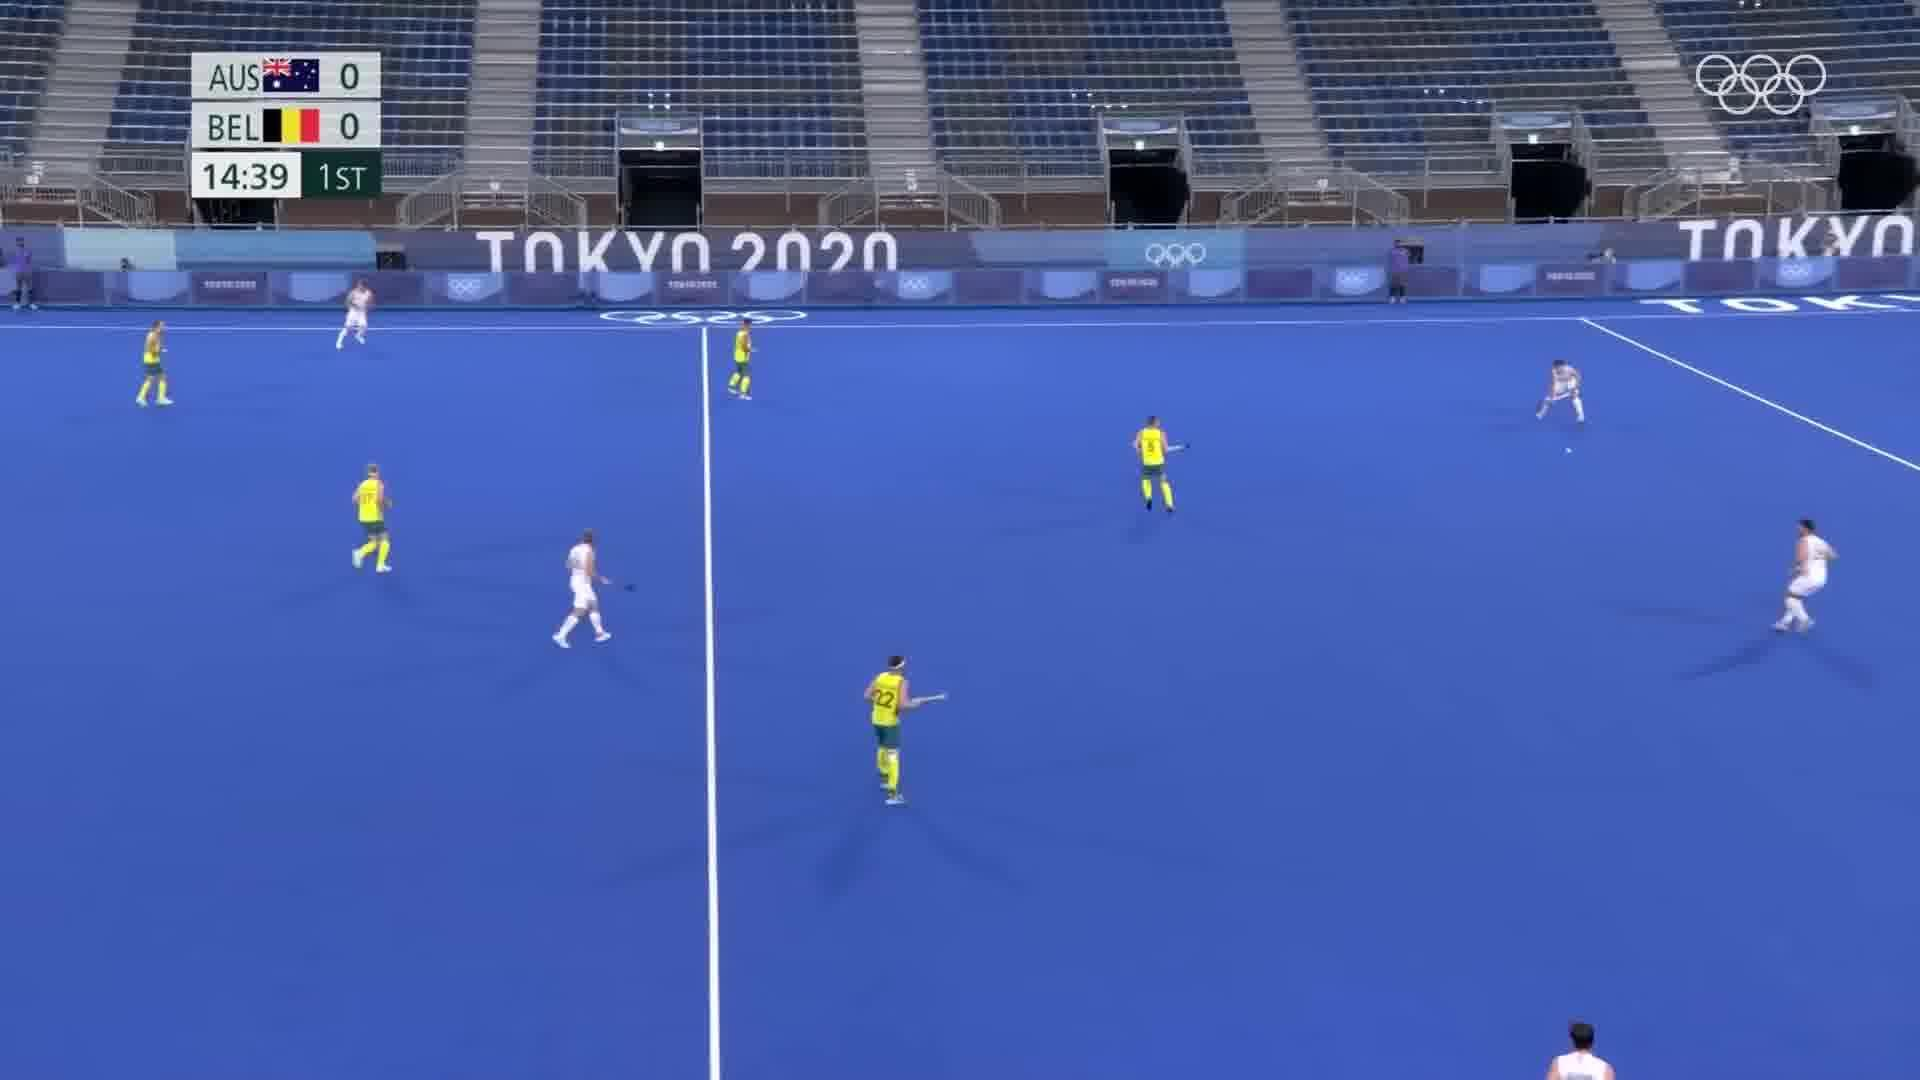ball: (1556, 442, 1580, 467)
